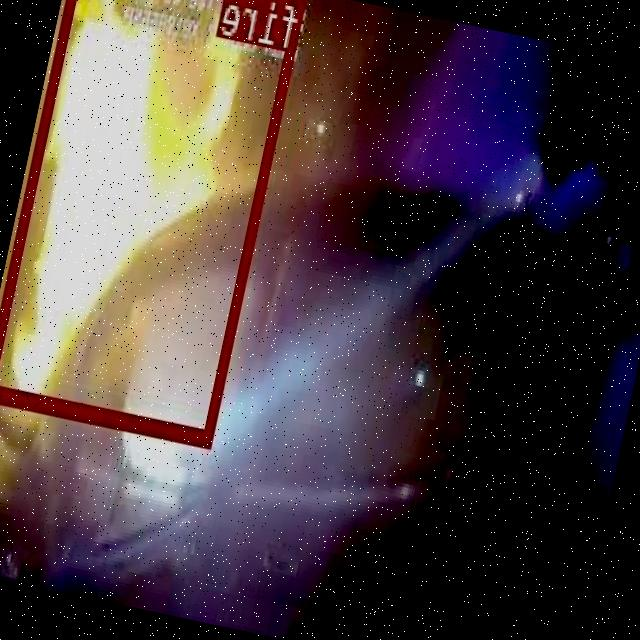fire: (0, 0, 309, 446)
